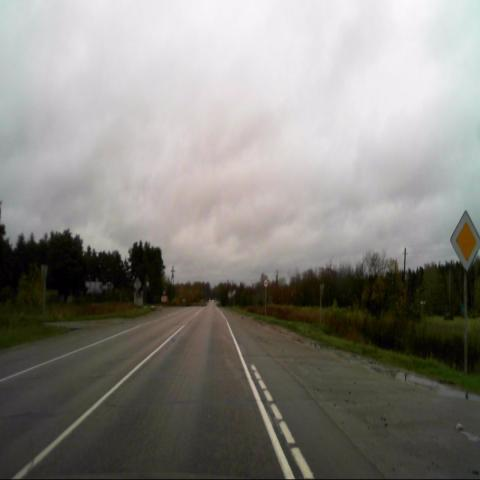2_1: (451, 210, 480, 272)
